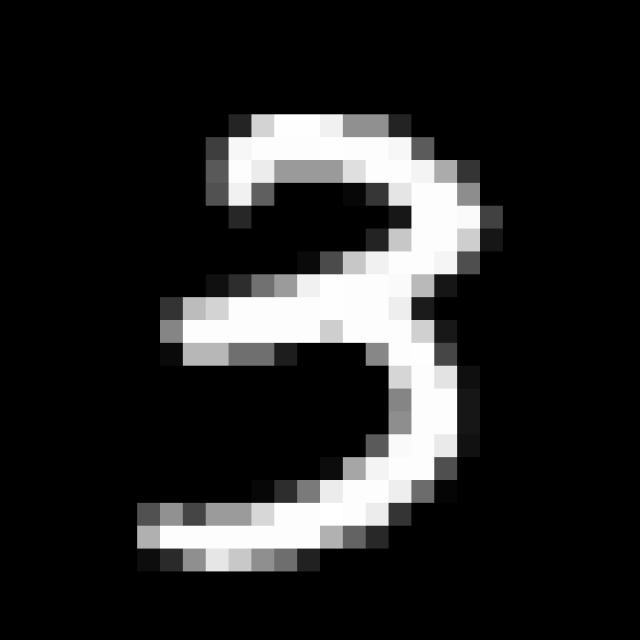three -3-: (128, 100, 502, 577)
